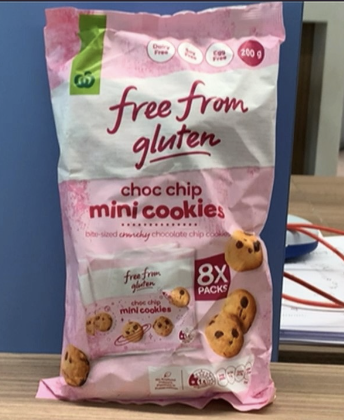cookies_150g: (71, 73, 261, 390)
